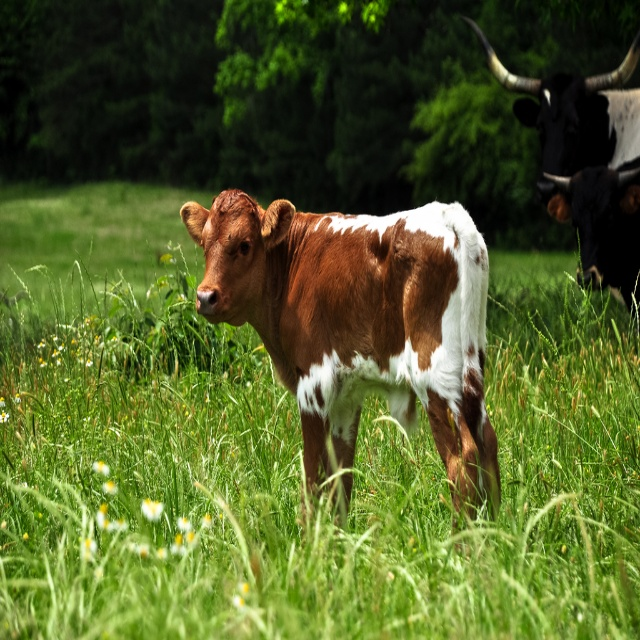Cattle: (180, 188, 502, 560), (459, 16, 640, 333)
